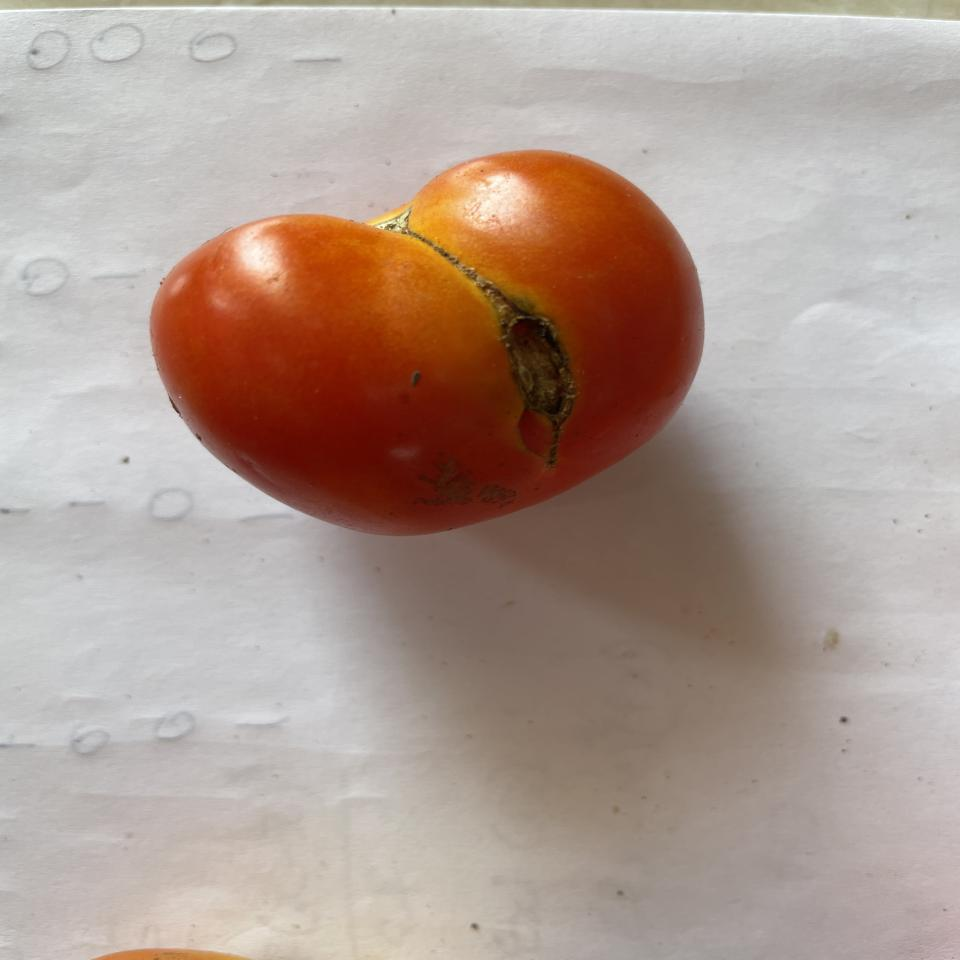Cracking: (490, 295, 581, 474)
